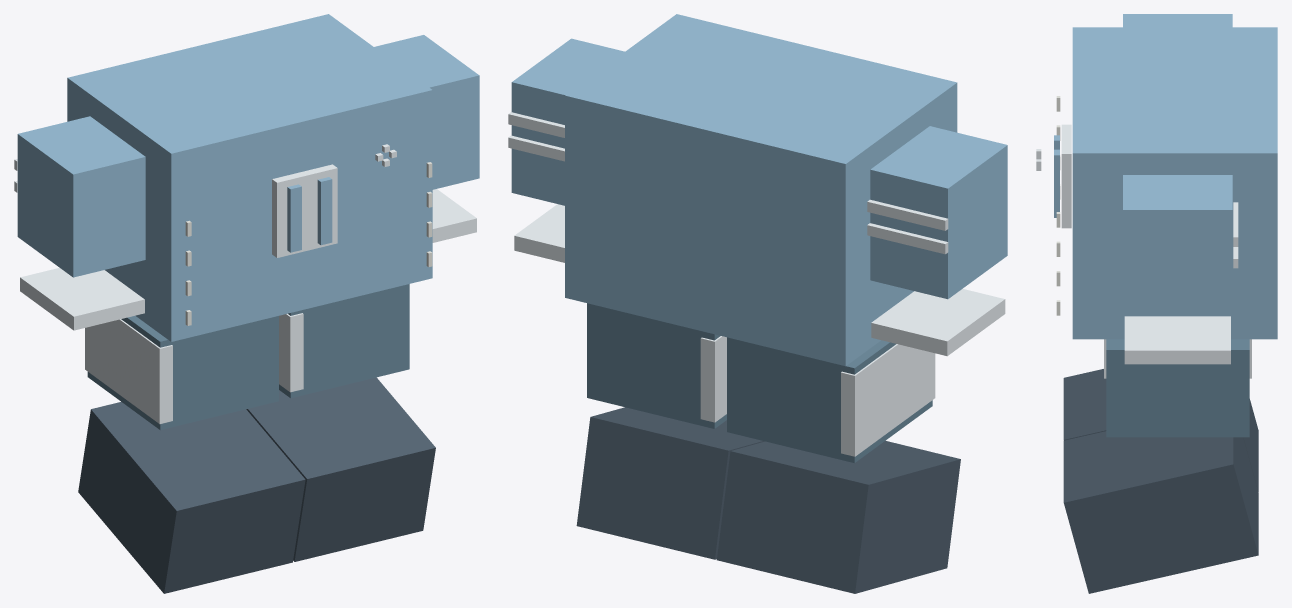
The model's file is sport-sky.glb.
3 views of the same model, side by side, from view 1: azimuth 30°, elevation 25°; view 2: azimuth 150°, elevation 25°; view 3: azimuth 270°, elevation 25° (orthographic). The views are drawn at different scales.
Visible parts, largest first — view 1: jacket, shoe-Right, shoe-Left, upper-sleeve-Right, trouser-Right, trouser-Left, upper-sleeve-Left, shorts-stripe-Right, cuff-Right, jersey-number, shorts-stripe-Left, cuff-Left (+2 smaller); view 2: jacket, shoe-Right, shoe-Left, upper-sleeve-Right, trouser-Right, trouser-Left, upper-sleeve-Left, shorts-stripe-Right, cuff-Right, shorts-stripe-Left, cuff-Left, design-sport-shoulder-stripe-Right-0 (+3 smaller); view 3: jacket, shoe-Left, upper-sleeve-Left, trouser-Left, cuff-Left, shoe-Right, upper-sleeve-Right, jersey-number, design-sport-number-eleven-0.025.
Boxes of the visible parts, x1,y1,x2,y2 form: jacket: [67, 14, 432, 341]; shoe-Right: [78, 402, 305, 593]; shoe-Left: [246, 377, 435, 561]; upper-sleeve-Right: [17, 116, 145, 277]; trouser-Right: [87, 316, 278, 429]; trouser-Left: [279, 284, 409, 398]; upper-sleeve-Left: [374, 35, 479, 189]; shorts-stripe-Right: [85, 319, 172, 423]; cuff-Right: [20, 267, 144, 330]; jersey-number: [272, 164, 337, 257]; shorts-stripe-Left: [279, 313, 303, 392]; cuff-Left: [432, 189, 476, 242]; jacket: [565, 14, 957, 366]; shoe-Right: [717, 440, 960, 593]; shoe-Left: [576, 407, 764, 559]; upper-sleeve-Right: [870, 126, 1007, 299]; trouser-Right: [727, 337, 932, 462]; trouser-Left: [587, 303, 726, 428]; upper-sleeve-Left: [511, 38, 624, 205]; shorts-stripe-Right: [841, 344, 935, 456]; cuff-Right: [871, 288, 1005, 356]; shorts-stripe-Left: [700, 336, 726, 422]; cuff-Left: [514, 204, 564, 262]; design-sport-shoulder-stripe-Right-0: [867, 199, 948, 230]; jacket: [1072, 27, 1277, 339]; shoe-Left: [1063, 431, 1258, 593]; upper-sleeve-Left: [1123, 175, 1232, 311]; trouser-Left: [1106, 339, 1249, 437]; cuff-Left: [1124, 316, 1230, 364]; shoe-Right: [1063, 369, 1258, 492]; upper-sleeve-Right: [1123, 14, 1232, 27]; jersey-number: [1061, 124, 1071, 228]; design-sport-number-eleven-0.025: [1054, 149, 1059, 217].
Size of the model in its own units: 1.07 by 1.13 by 0.559.
